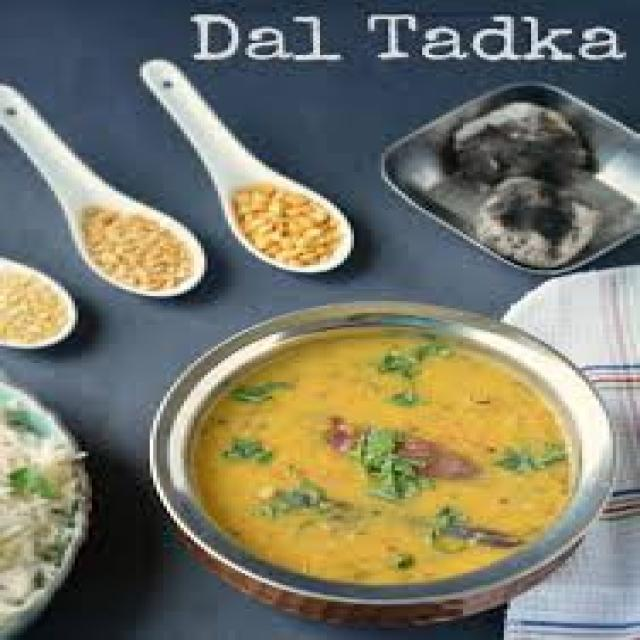dal: (185, 345, 577, 555)
